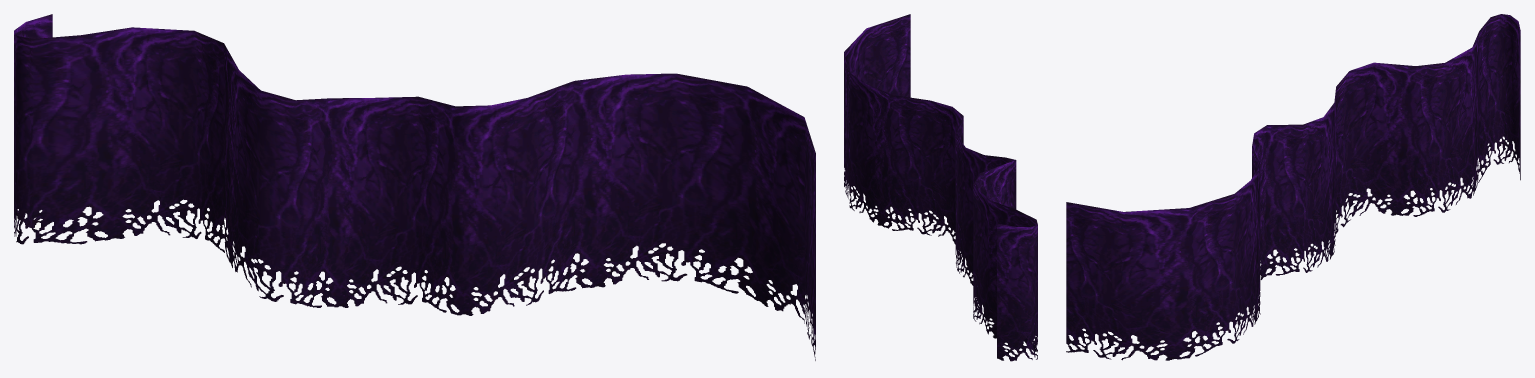
Rendered from EKH_ENTRANCE_PS_EN_TREEWALL3939847.obj.
3 views of the same model, side by side, from view 1: azimuth 30°, elevation 25°; view 2: azimuth 150°, elevation 25°; view 3: azimuth 270°, elevation 25° (orthographic). The views are drawn at different scales.
Parts seen in each view (by area): view 1: Treewall3939847; view 2: Treewall3939847; view 3: Treewall3939847.
Boxes of the visible parts, x1,y1,x2,y2 form: Treewall3939847: (14,14,815,360); Treewall3939847: (844,14,1037,361); Treewall3939847: (1066,14,1520,360).
Bounding box in the file's own units: 3290 × 1433 × 3416.
